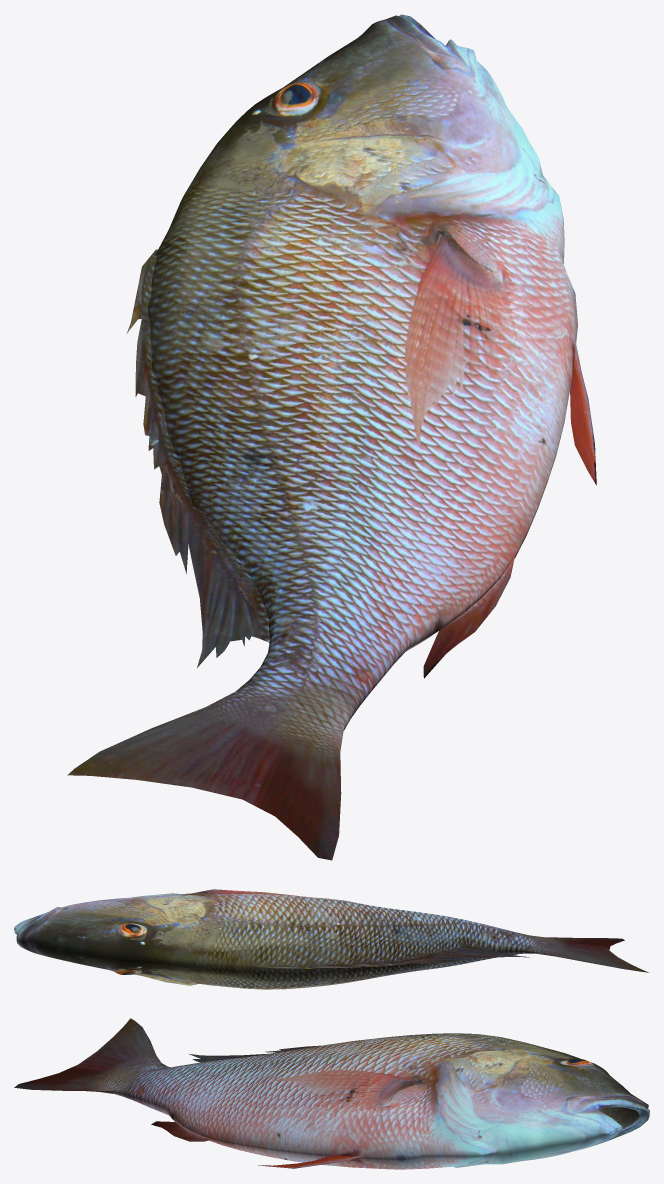
File: Pescado.obj
3 views of the same model, one above another, from view 1: azimuth 30°, elevation 25°; view 2: azimuth 150°, elevation 25°; view 3: azimuth 270°, elevation 25° (orthographic). The views are drawn at different scales.
Visible parts, largest first — view 1: fishOBJ; view 2: fishOBJ; view 3: fishOBJ.
Part boxes in pixels (x1,y1,x2,y2): fishOBJ: [67, 14, 596, 860]; fishOBJ: [14, 889, 648, 989]; fishOBJ: [14, 1018, 649, 1169].
Bounding box in the file's own units: 1.95 × 0.6326 × 2.31.
Materials: 1 (1 with a texture image).
